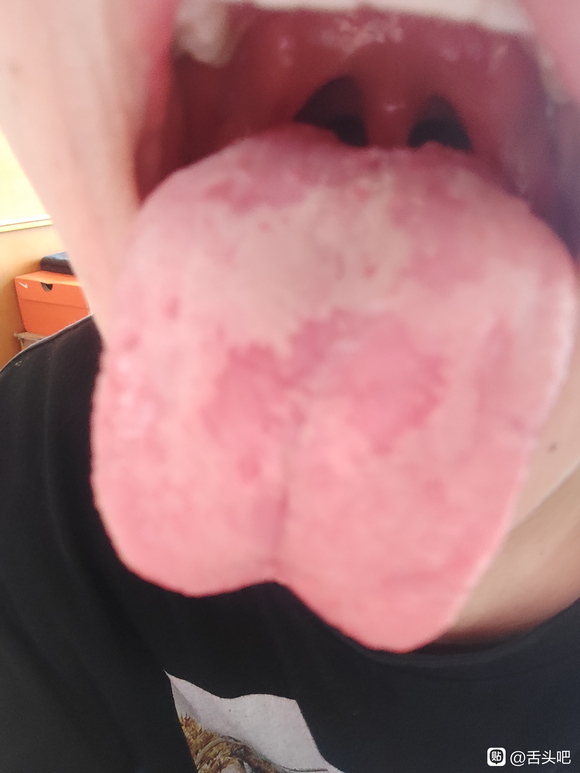baitaishe: (89, 123, 574, 653)
botaishe: (189, 298, 453, 495), (198, 127, 335, 222)
xinfeiao: (162, 539, 360, 644)
